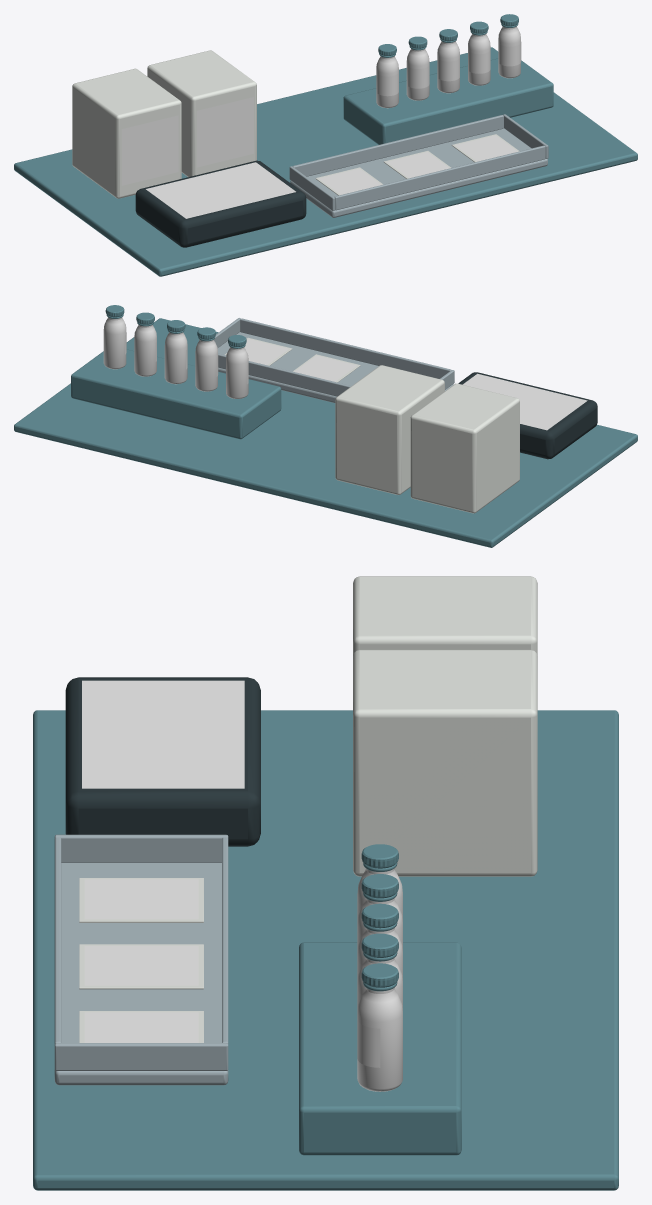
Rendered from CP_PreparationKit.fbx.
3 renders of one model, top to bottom at view 1: azimuth 30°, elevation 25°; view 2: azimuth 150°, elevation 25°; view 3: azimuth 270°, elevation 25°, orthographic. The views are drawn at different scales.
Parts seen in each view (by area): view 1: CP_PreparationKit; view 2: CP_PreparationKit; view 3: CP_PreparationKit.
Boxes of the visible parts, left/top/right/bottom form: CP_PreparationKit: left=14, top=14, right=637, bottom=276; CP_PreparationKit: left=14, top=305, right=637, bottom=547; CP_PreparationKit: left=33, top=576, right=618, bottom=1190.
Size of the model in its own units: 102 by 19 by 54.
